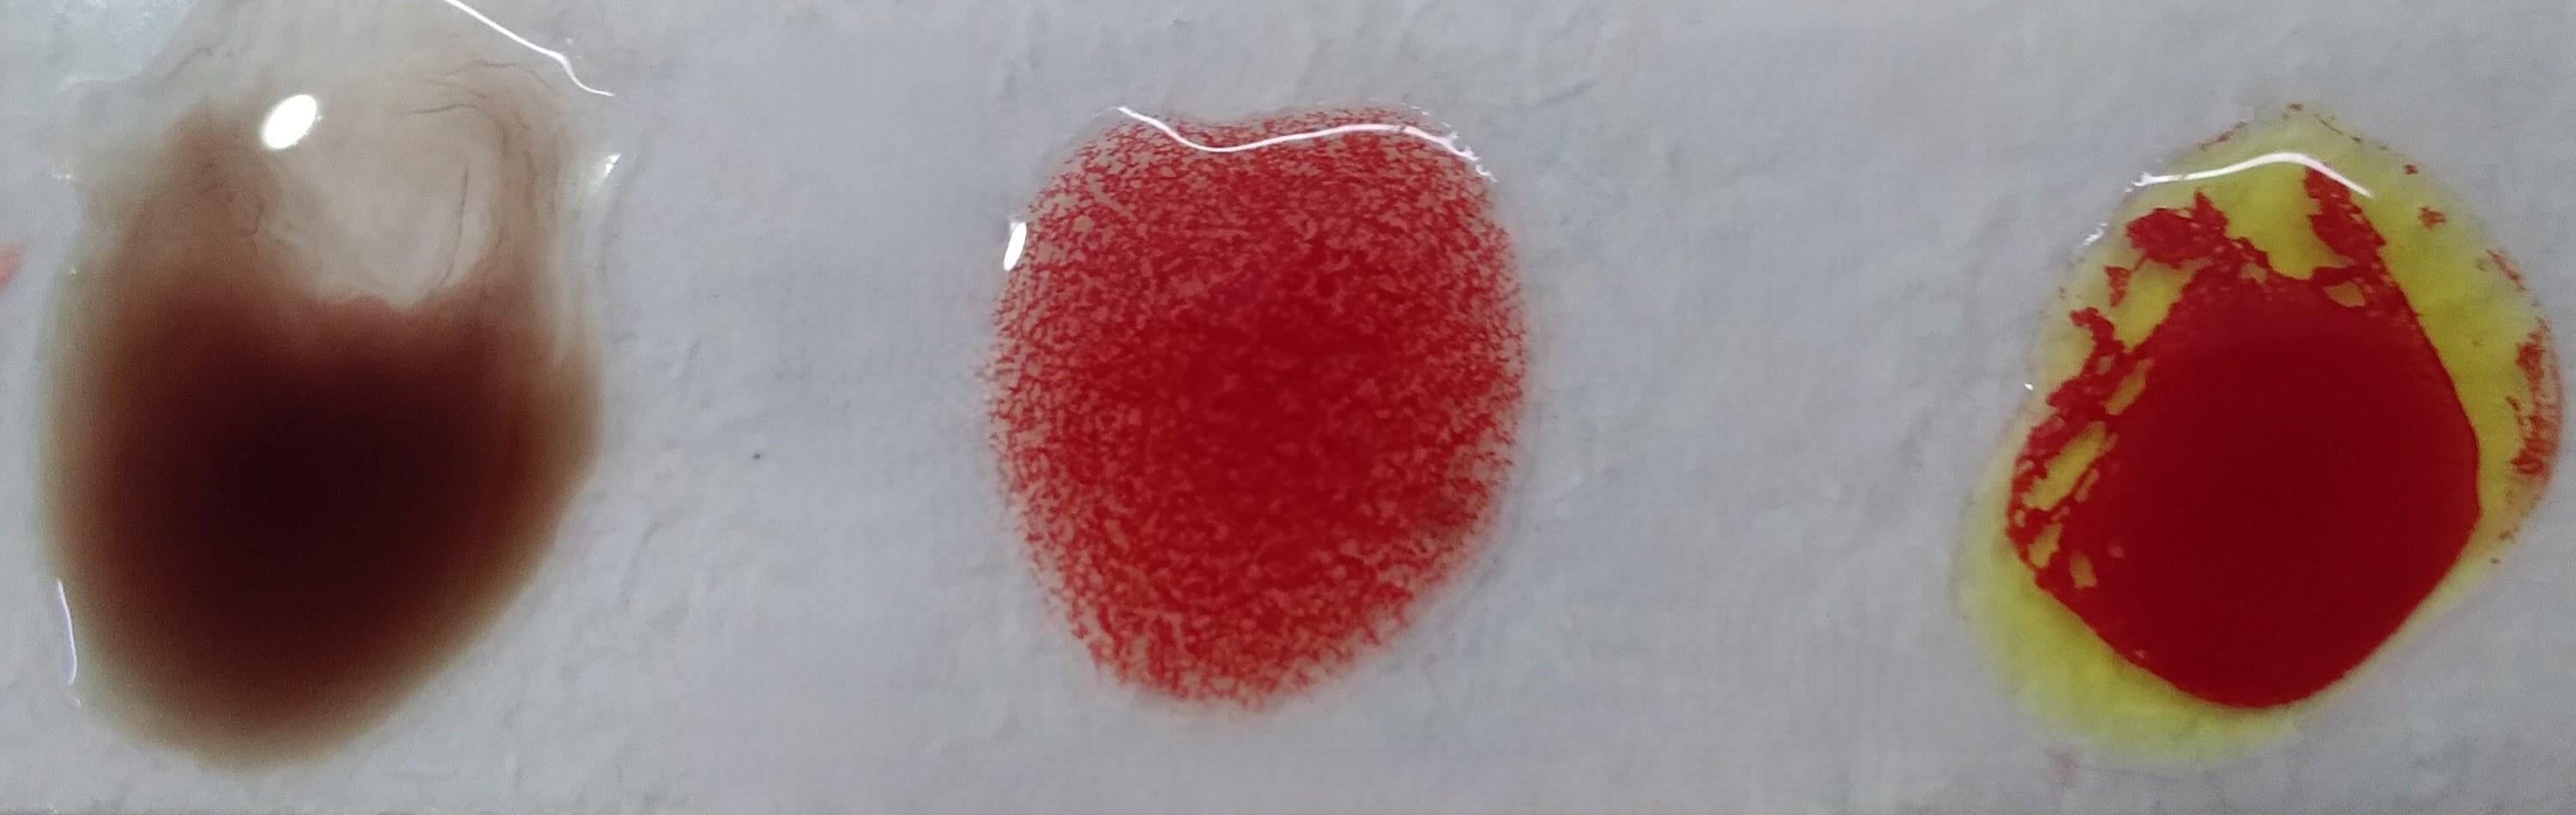B: (2008, 130, 2530, 734)
D: (1010, 108, 1520, 711)
